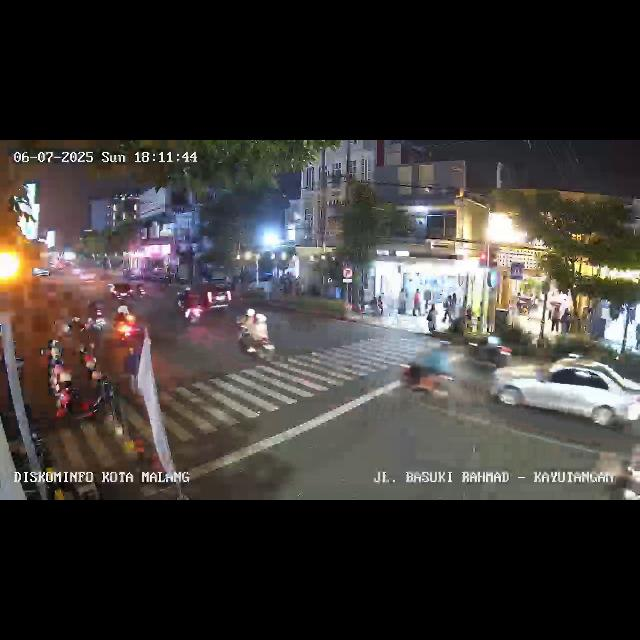car: (491, 357, 639, 431), (190, 282, 232, 310), (108, 280, 146, 302)
motorcycle: (394, 344, 460, 416), (236, 310, 276, 364), (466, 332, 510, 372), (114, 304, 142, 346), (180, 291, 204, 329), (85, 302, 107, 334)
person: (122, 332, 144, 393), (560, 304, 572, 336), (442, 292, 452, 326), (550, 303, 560, 335), (426, 304, 436, 336), (398, 289, 407, 317), (412, 288, 421, 316), (633, 316, 639, 352), (376, 292, 384, 316)
